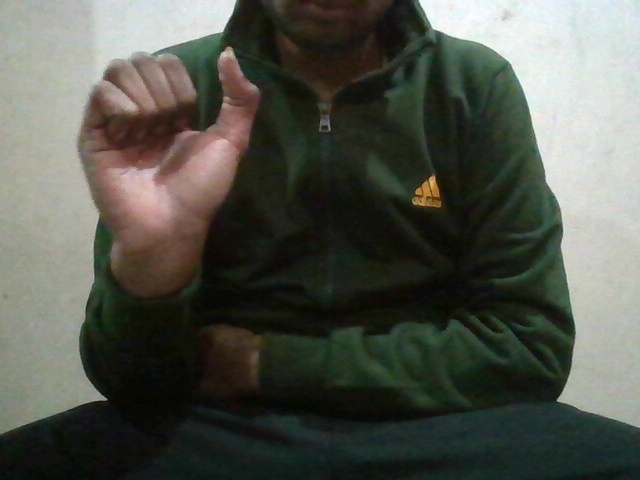S: (70, 46, 260, 222)
